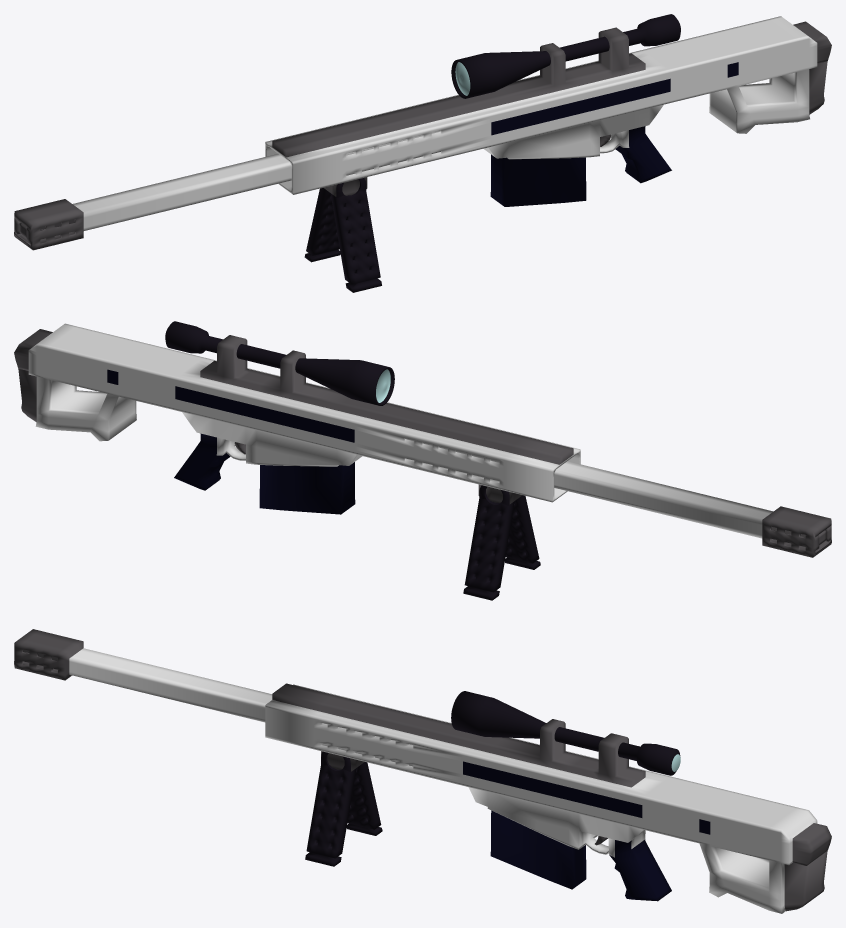
Rendered from barret.fbx.
The picture shows the model from 3 angles, top to bottom: view 1: azimuth 30°, elevation 25°; view 2: azimuth 150°, elevation 25°; view 3: azimuth 330°, elevation 25°; orthographic projection.
Parts seen in each view (by area): view 1: Plano; view 2: Plano; view 3: Plano.
Part boxes in pixels (x1,y1,x2,y2): Plano: [14, 14, 831, 292]; Plano: [14, 321, 831, 600]; Plano: [14, 629, 831, 913].
Size of the model in its own units: 491 by 107 by 51.7.
